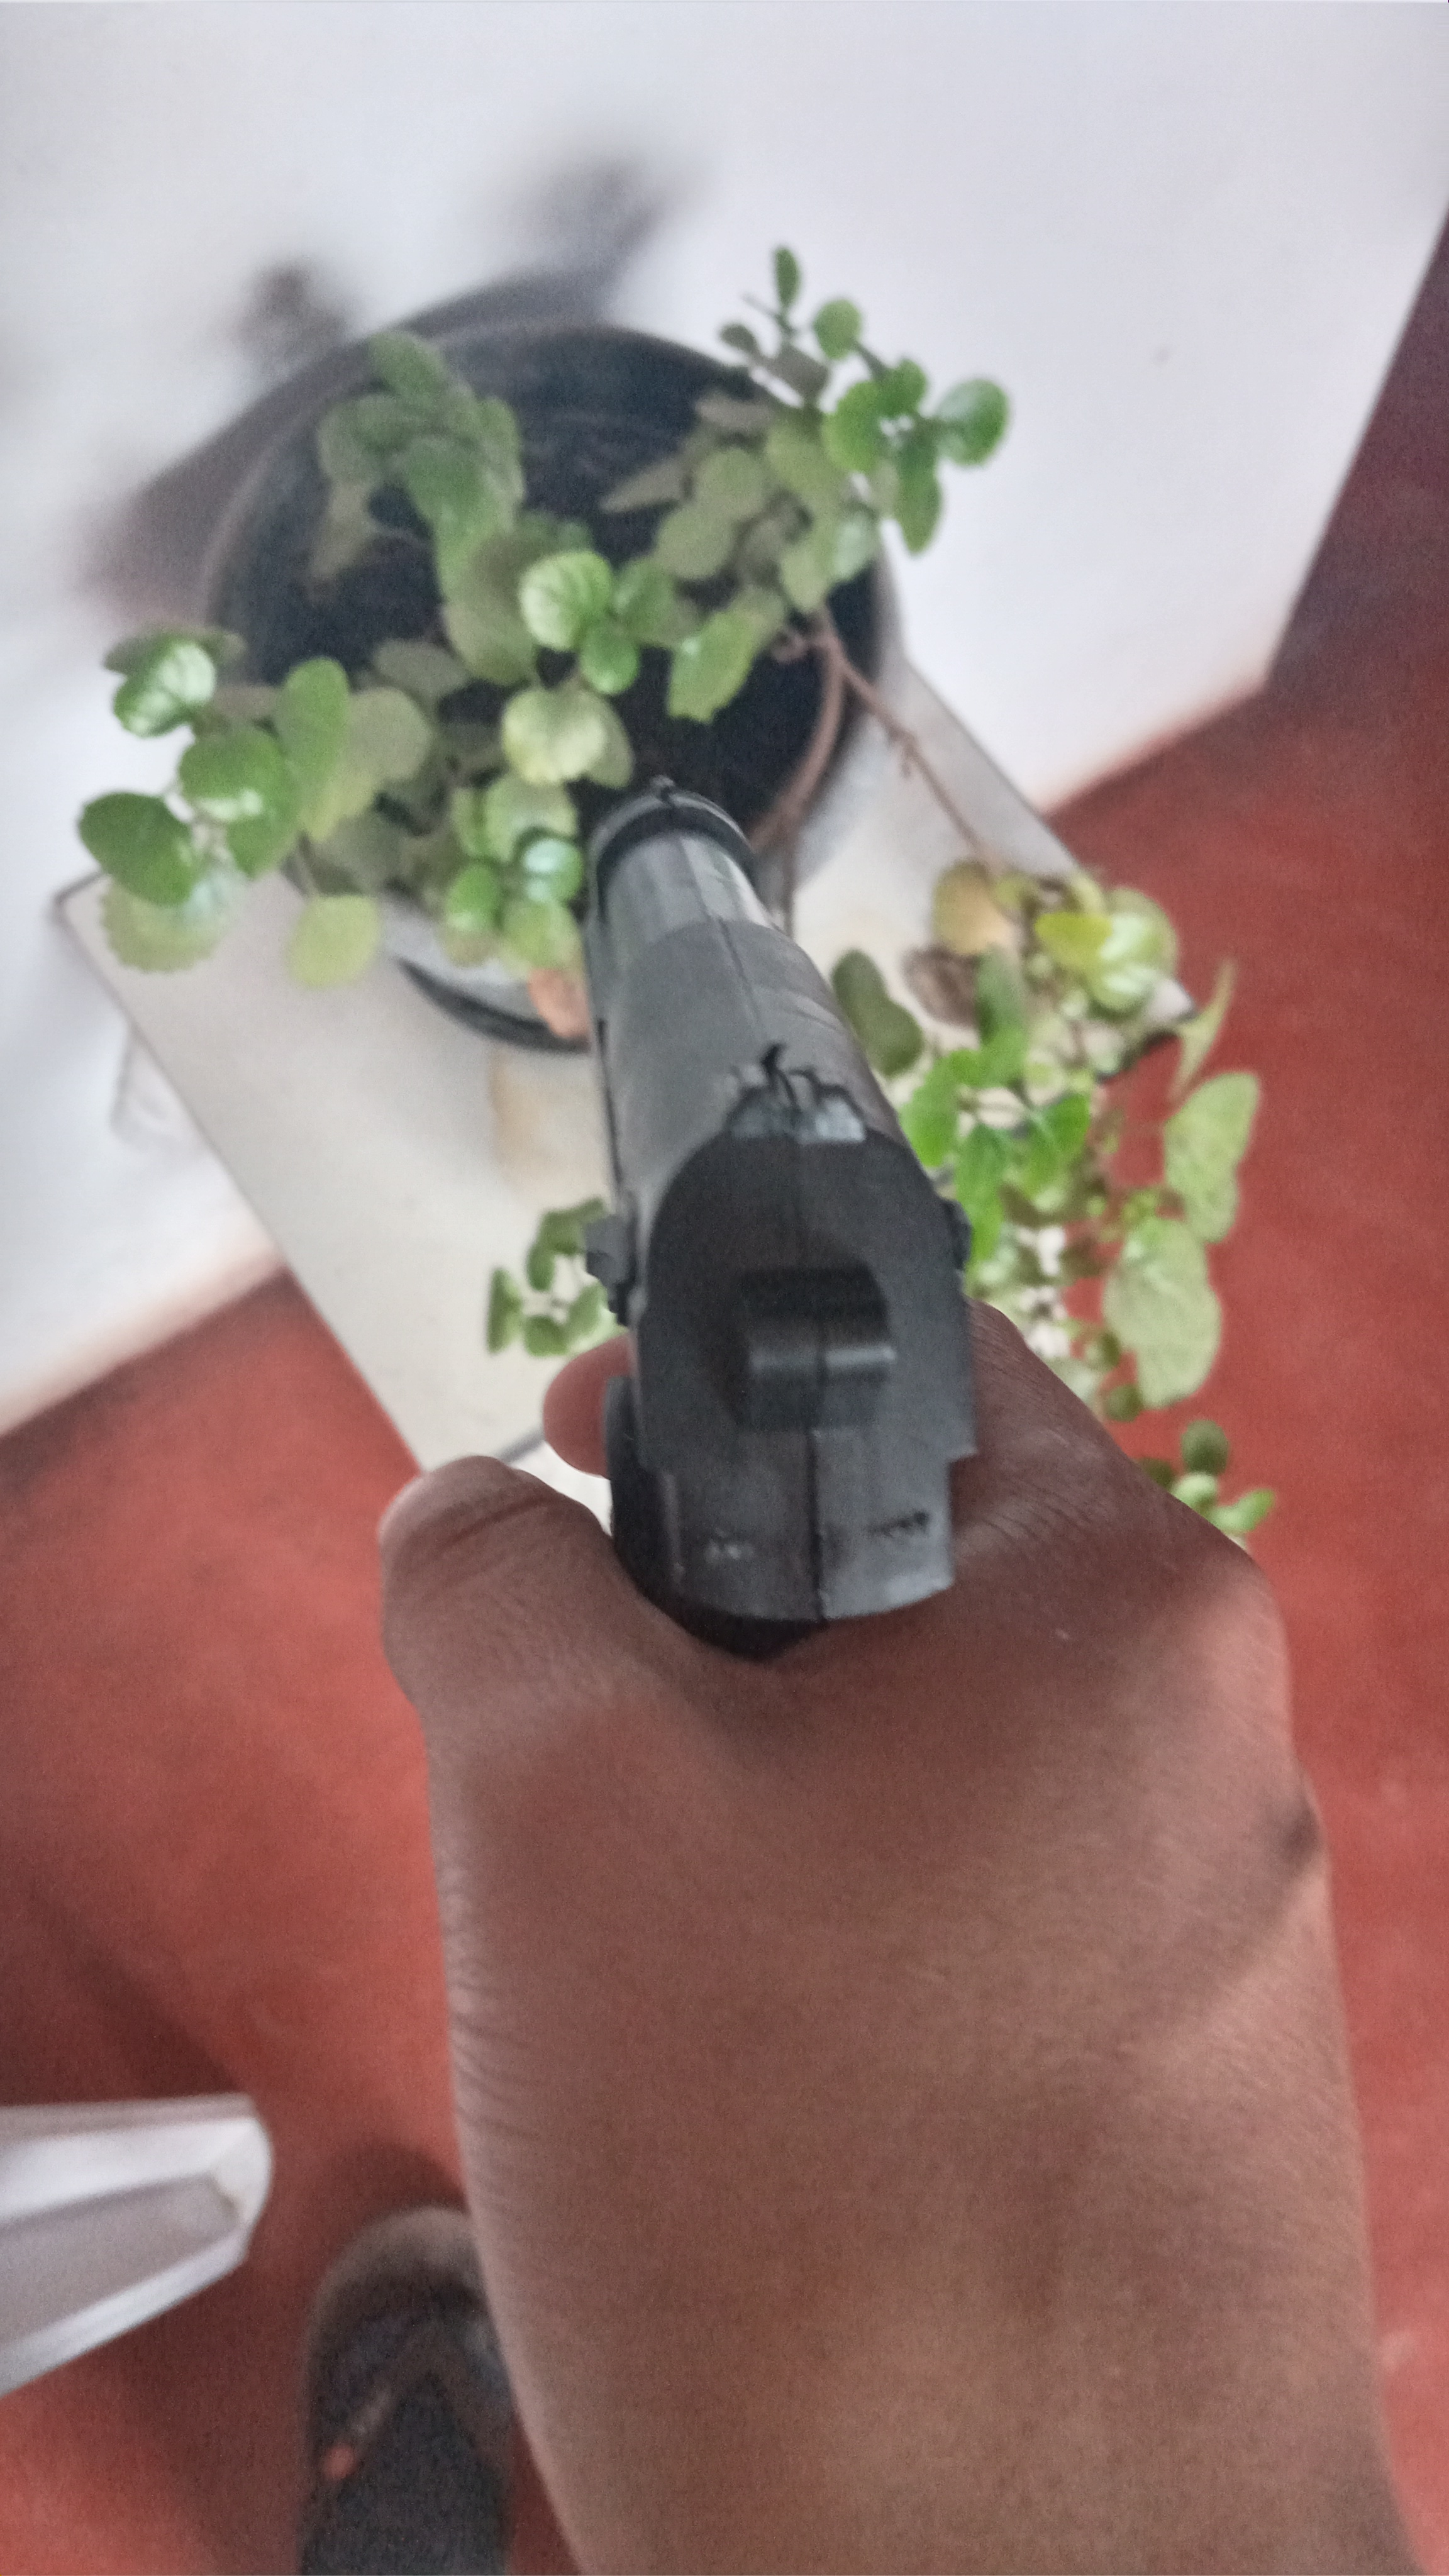Arma: (564, 796, 998, 1642)
